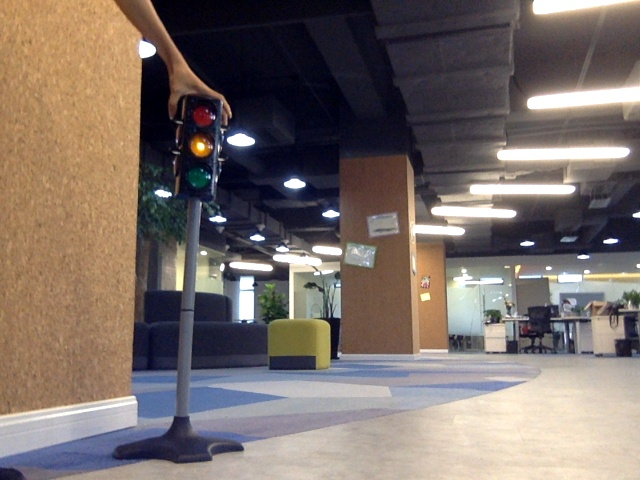yellow: (184, 105, 215, 189)
